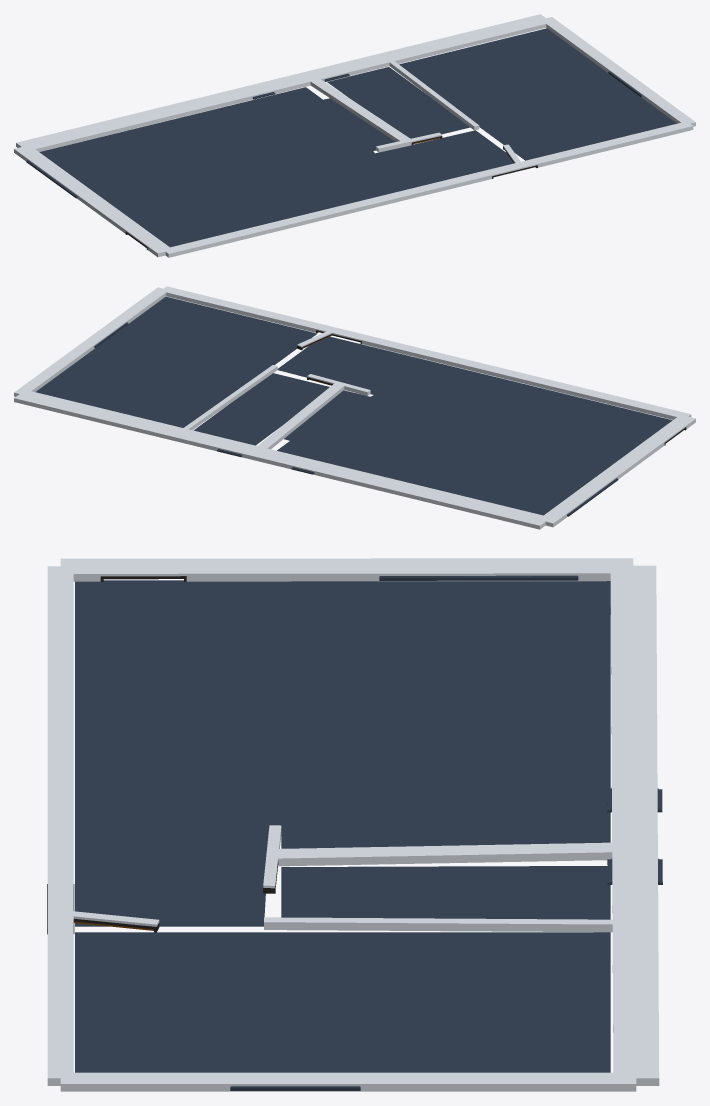
Rendered from reconstructed_scene.glb.
3 views of the same model, one above another, from view 1: azimuth 30°, elevation 25°; view 2: azimuth 150°, elevation 25°; view 3: azimuth 270°, elevation 25° (orthographic). The views are drawn at different scales.
Visible parts, largest first — view 1: floor_room1, floor_room3, wall_w1_seg (×3), wall_w12_seg (×2), floor_room2, wall_w5_seg (×3), wall_w2_seg (×2), wall_w6_seg, wall_w7_seg; view 2: floor_room1, floor_room3, wall_w1_seg (×3), wall_w12_seg (×2), floor_room2, wall_w5_seg (×3), wall_w2_seg (×2), wall_w6_seg, wall_w7_seg; view 3: floor_room1, floor_room3, wall_w1_seg (×5), floor_room2, wall_w12_seg (×3), wall_w2_seg (×5), wall_w5_seg (×3), wall_w6_seg, wall_w7_seg, window_win3.
Boxes of the visible parts, x1,y1,x2,y2 form: floor_room1: (39, 87, 513, 247); floor_room3: (399, 28, 676, 160); wall_w1_seg (×3): (16, 14, 551, 151); wall_w12_seg (×2): (165, 123, 693, 257); floor_room2: (327, 67, 469, 138); wall_w5_seg (×3): (541, 17, 695, 126); wall_w2_seg (×2): (28, 155, 141, 233); wall_w6_seg: (306, 75, 410, 141); wall_w7_seg: (384, 57, 479, 130); floor_room1: (277, 336, 672, 515); floor_room3: (35, 296, 317, 427); wall_w1_seg (×3): (14, 390, 550, 529); wall_w12_seg (×2): (164, 286, 691, 419); floor_room2: (193, 373, 329, 445); wall_w5_seg (×3): (14, 287, 168, 396); wall_w2_seg (×2): (552, 438, 664, 513); wall_w6_seg: (252, 382, 345, 452); wall_w7_seg: (178, 365, 277, 433); floor_room1: (75, 580, 610, 926); floor_room3: (75, 932, 610, 1072); wall_w1_seg (×5): (610, 565, 659, 1085); floor_room2: (281, 866, 610, 919); wall_w12_seg (×3): (47, 566, 73, 1085); wall_w2_seg (×5): (60, 558, 633, 581); wall_w5_seg (×3): (60, 1072, 636, 1091); wall_w6_seg: (272, 842, 612, 866); wall_w7_seg: (264, 917, 635, 932); window_win3: (379, 575, 578, 580).
Size of the model in its own units: 437 by 3.1 by 215.
